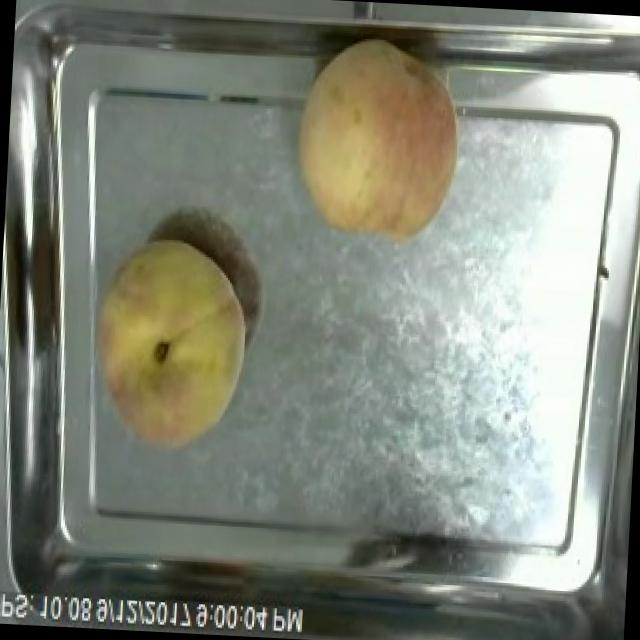Fruit: (280, 28, 475, 255), (77, 228, 260, 463)
